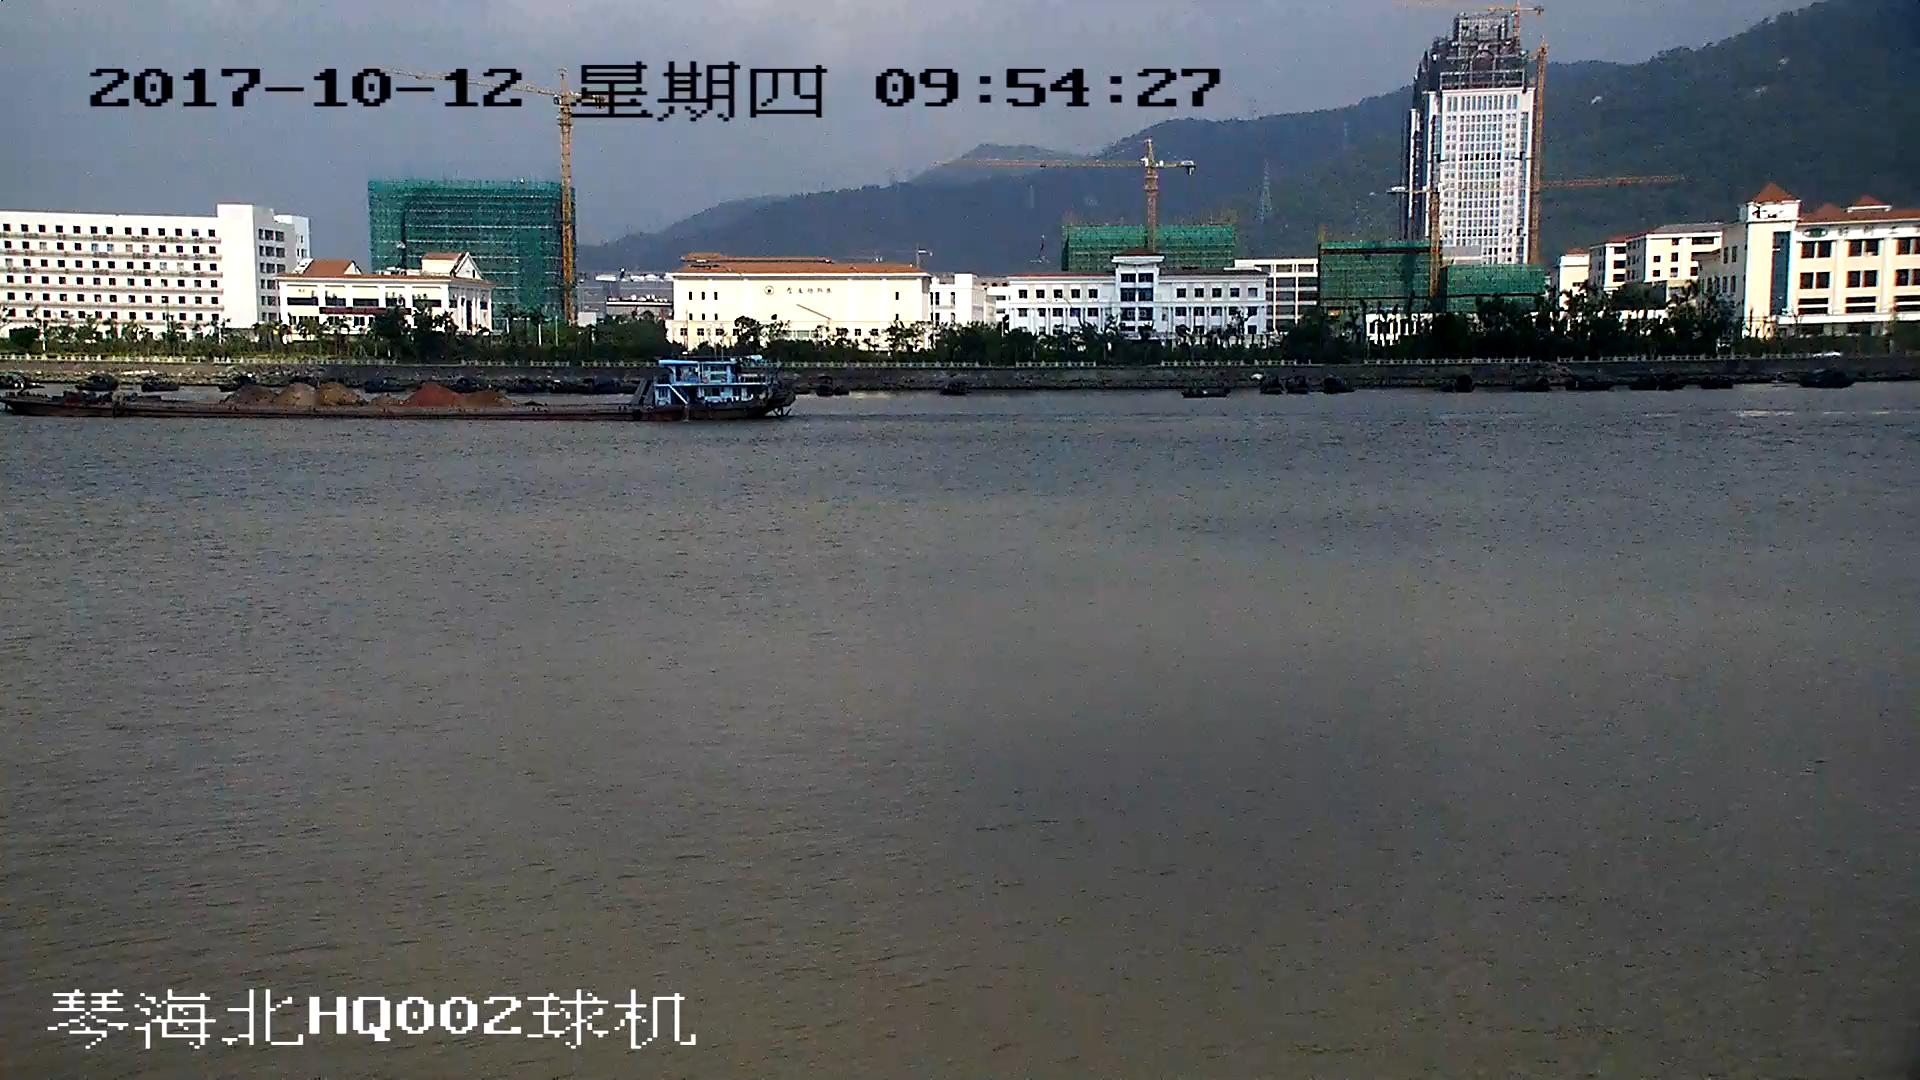ore carrier: (1, 353, 795, 419)
